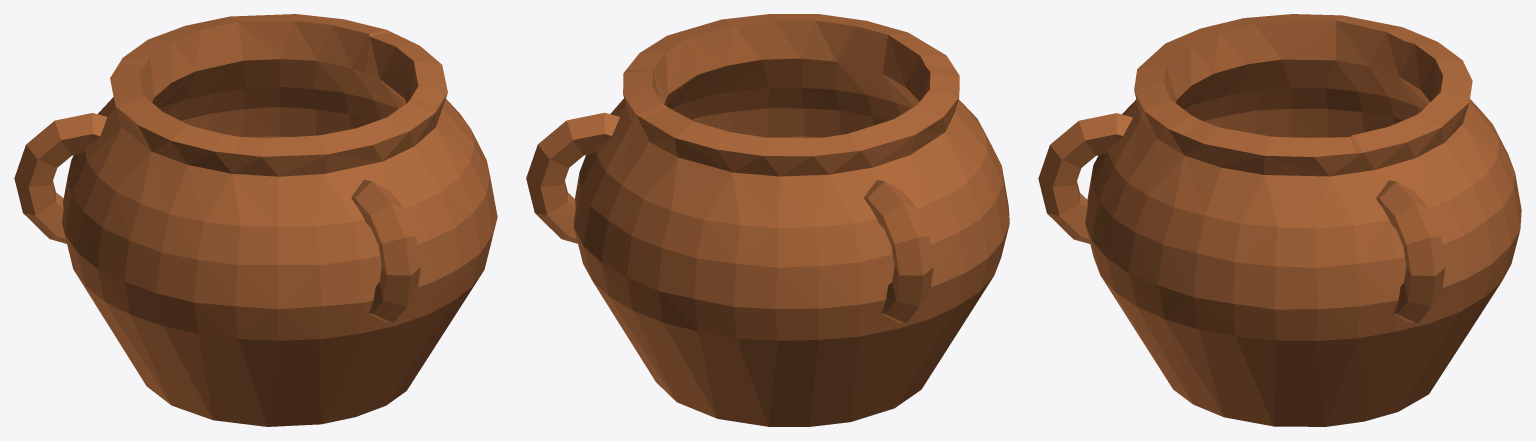
The model's file is Pottery 3_2b.fbx.
3 renders of one model, left to right at view 1: azimuth 30°, elevation 25°; view 2: azimuth 150°, elevation 25°; view 3: azimuth 270°, elevation 25°, orthographic.
Visible parts, largest first — view 1: Pottery 3_2b.001, Pottery 3_2b.005, Pottery 3_2b, Pottery 3_2b.006, Pottery 3_2b.004, Pottery 3_2b.003, Pottery 3_2b.002; view 2: Pottery 3_2b.004, Pottery 3_2b.005, Pottery 3_2b, Pottery 3_2b.001, Pottery 3_2b.003, Pottery 3_2b.002, Pottery 3_2b.006; view 3: Pottery 3_2b.002, Pottery 3_2b.003, Pottery 3_2b.005, Pottery 3_2b.001, Pottery 3_2b, Pottery 3_2b.004, Pottery 3_2b.006.
Part boxes in pixels (x1=…): Pottery 3_2b.001: x1=232, y1=97, x2=480, y2=338; Pottery 3_2b.005: x1=14, y1=64, x2=200, y2=378; Pottery 3_2b: x1=104, y1=136, x2=484, y2=426; Pottery 3_2b.006: x1=156, y1=128, x2=319, y2=378; Pottery 3_2b.004: x1=118, y1=14, x2=284, y2=138; Pottery 3_2b.003: x1=279, y1=14, x2=398, y2=137; Pottery 3_2b.002: x1=365, y1=32, x2=497, y2=268; Pottery 3_2b.004: x1=601, y1=107, x2=830, y2=340; Pottery 3_2b.005: x1=816, y1=84, x2=1009, y2=378; Pottery 3_2b: x1=601, y1=136, x2=969, y2=426; Pottery 3_2b.001: x1=751, y1=14, x2=953, y2=138; Pottery 3_2b.003: x1=526, y1=69, x2=667, y2=320; Pottery 3_2b.002: x1=610, y1=16, x2=769, y2=137; Pottery 3_2b.006: x1=919, y1=66, x2=1009, y2=220; Pottery 3_2b.002: x1=1129, y1=121, x2=1360, y2=385; Pottery 3_2b.003: x1=1350, y1=112, x2=1492, y2=375; Pottery 3_2b.005: x1=1221, y1=14, x2=1427, y2=138; Pottery 3_2b.001: x1=1038, y1=34, x2=1213, y2=274; Pottery 3_2b: x1=1100, y1=257, x2=1501, y2=426; Pottery 3_2b.004: x1=1399, y1=36, x2=1521, y2=280; Pottery 3_2b.006: x1=1181, y1=22, x2=1246, y2=127.
Size of the model in its own units: 76.29 by 53.26 by 80.32.
